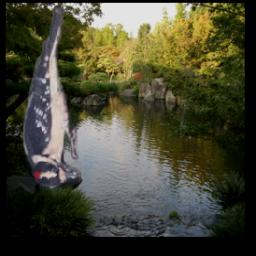Woodpecker: (21, 8, 82, 192)
